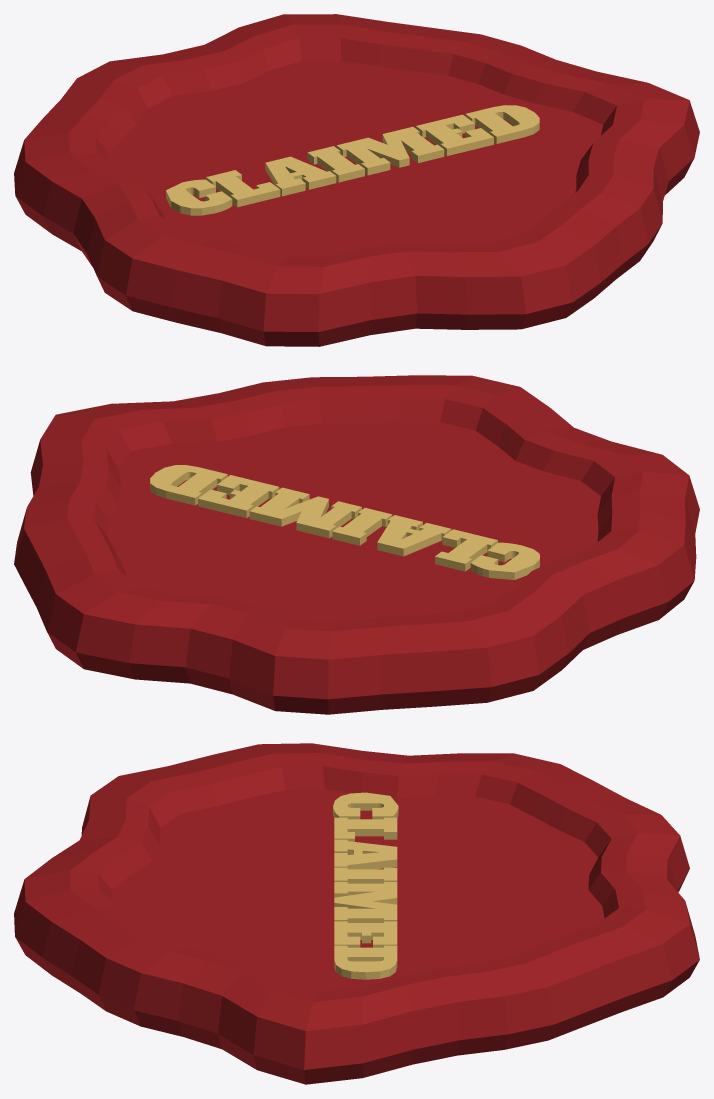
File: wax_stamp.glb
The picture shows the model from 3 angles, top to bottom: view 1: azimuth 30°, elevation 25°; view 2: azimuth 150°, elevation 25°; view 3: azimuth 270°, elevation 25°; orthographic projection. The views are drawn at different scales.
Parts seen in each view (by area): view 1: WaxStamp; view 2: WaxStamp; view 3: WaxStamp.
Part boxes in pixels (left/top/right/bottom): WaxStamp: left=14, top=14, right=699, bottom=346; WaxStamp: left=14, top=375, right=699, bottom=714; WaxStamp: left=14, top=743, right=699, bottom=1084.
Size of the model in its own units: 0.0595 by 0.0058 by 0.0581.
